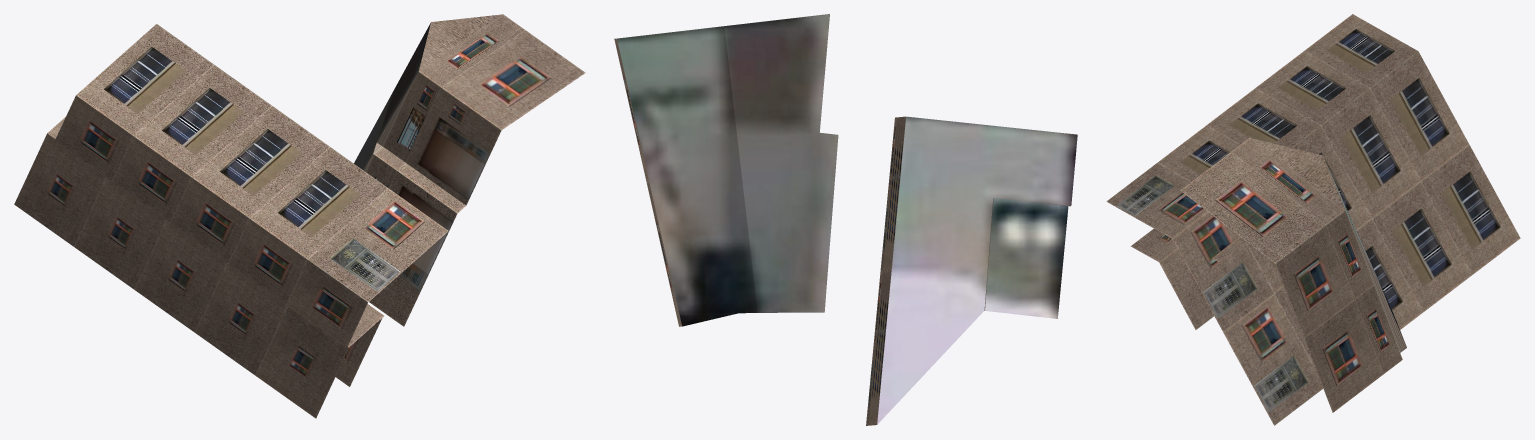
The picture shows the model from 3 angles, left to right: view 1: azimuth 30°, elevation 25°; view 2: azimuth 150°, elevation 25°; view 3: azimuth 270°, elevation 25°; orthographic projection. The views are drawn at different scales.
Size of the model in its own units: 24.59 by 17.87 by 20.72.
10 materials, 10 textured.
